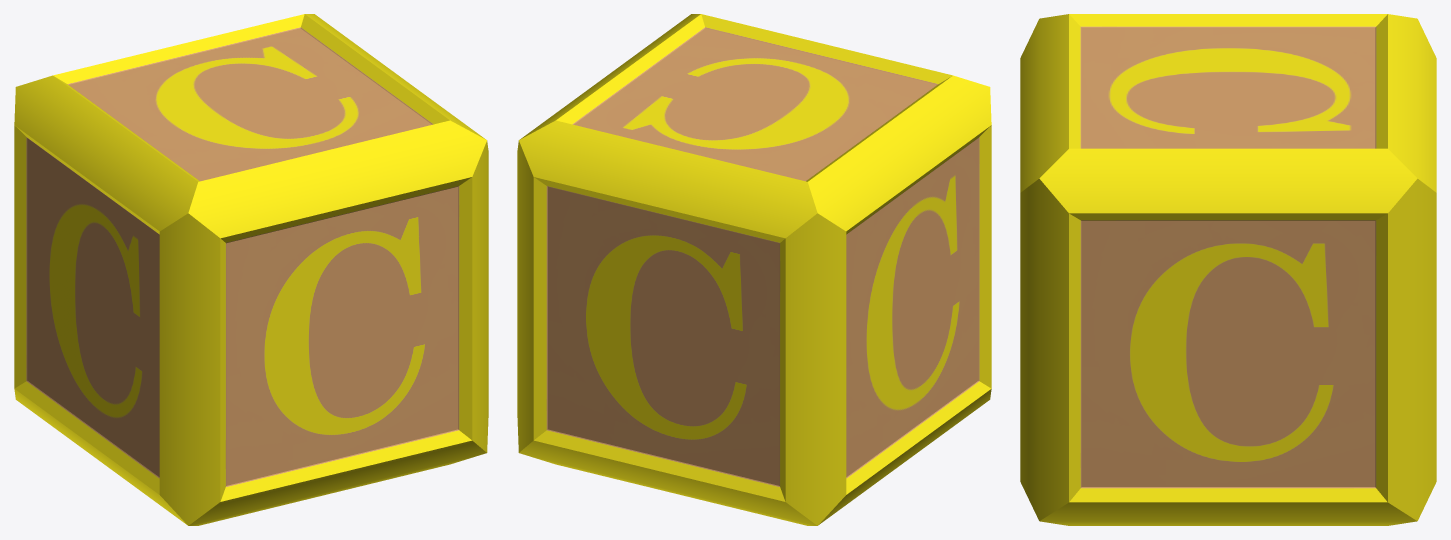
3 renders of one model, left to right at view 1: azimuth 30°, elevation 25°; view 2: azimuth 150°, elevation 25°; view 3: azimuth 270°, elevation 25°, orthographic. The views are drawn at different scales.
Visible parts, largest first — view 1: pCube1; view 2: pCube1; view 3: pCube1.
Boxes of the visible parts, x1,y1,x2,y2 form: pCube1: [14, 14, 488, 525]; pCube1: [517, 14, 991, 525]; pCube1: [1020, 14, 1436, 525].
Bounding box in the file's own units: 0.4114 × 0.4114 × 0.4114.
1 material, 1 textured.
